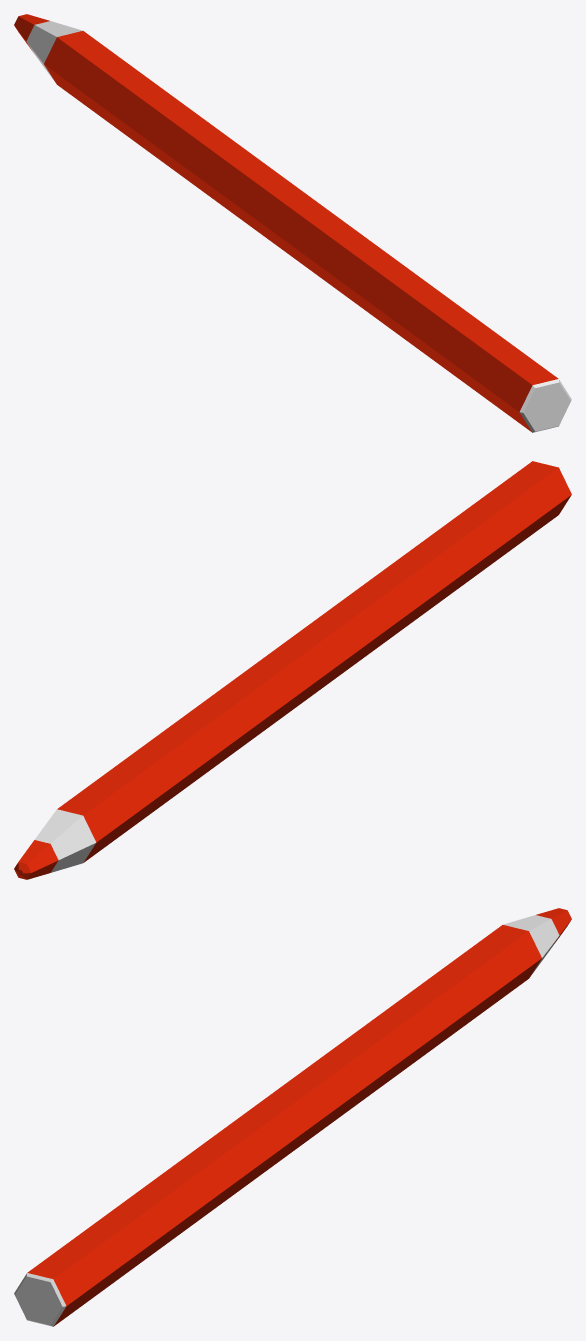
File: Pencil colour.fbx
The picture shows the model from 3 angles, top to bottom: view 1: azimuth 30°, elevation 25°; view 2: azimuth 150°, elevation 25°; view 3: azimuth 330°, elevation 25°; orthographic projection.
Parts seen in each view (by area): view 1: Cylinder.002; view 2: Cylinder.002; view 3: Cylinder.002.
Part boxes in pixels (x1,y1,x2,y2): Cylinder.002: (14,14,571,432); Cylinder.002: (14,461,571,879); Cylinder.002: (14,908,571,1326).
Size of the model in its own units: 0.8647 by 0.7488 by 15.02.
